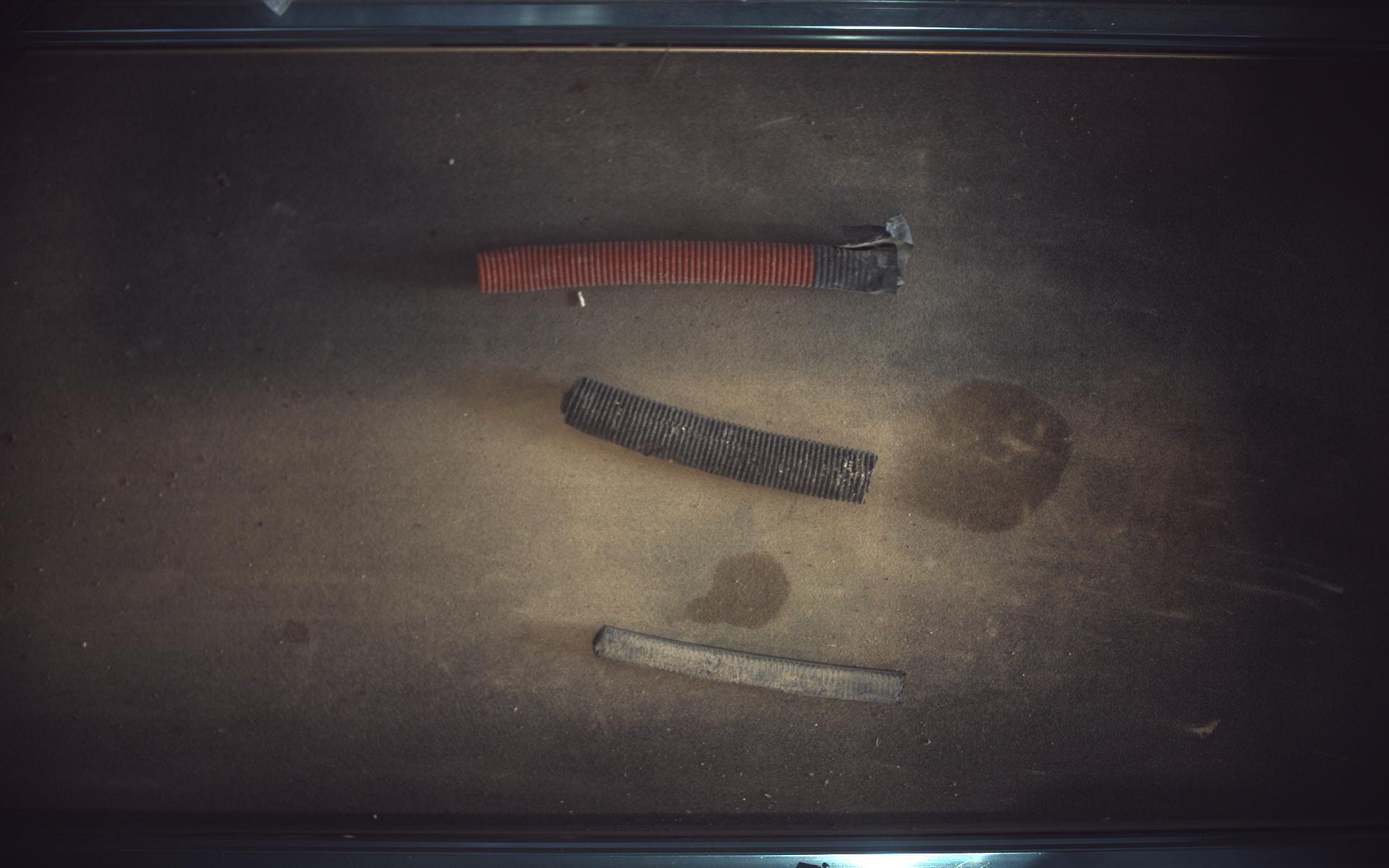pipes: (561, 377, 879, 503), (477, 213, 914, 293), (594, 626, 907, 705)
